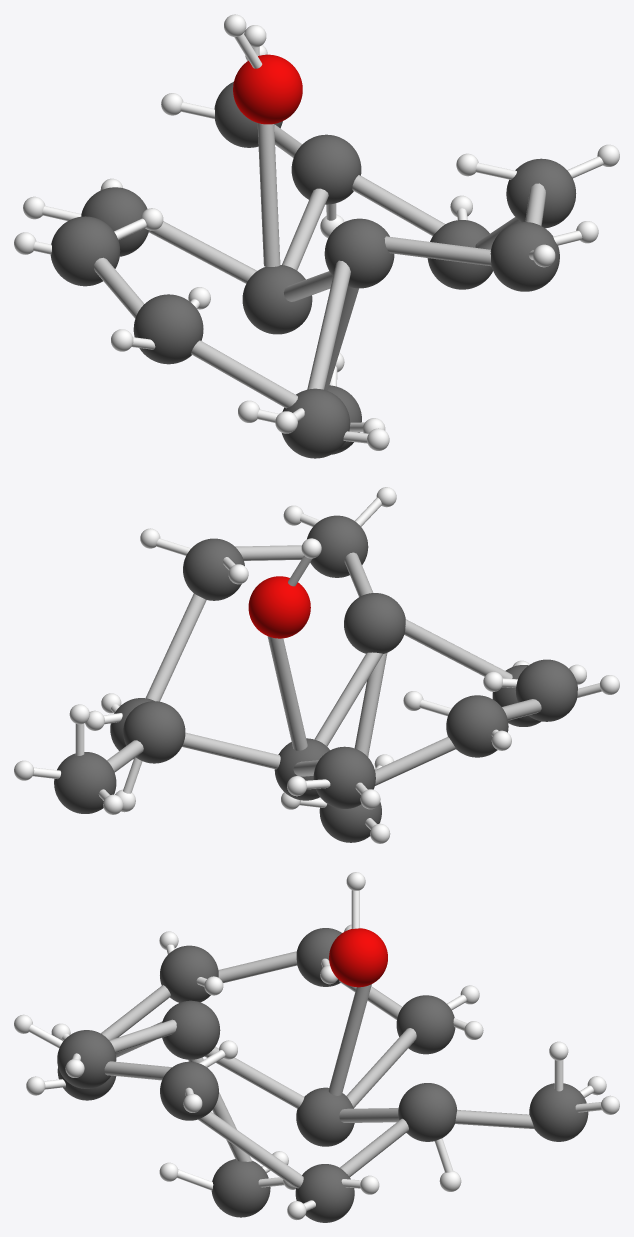
Rendered from Geosmin.glb.
3 renders of one model, top to bottom at view 1: azimuth 30°, elevation 25°; view 2: azimuth 150°, elevation 25°; view 3: azimuth 270°, elevation 25°, orthographic. The views are drawn at different scales.
Visible parts, largest first — view 1: Sphere 12, Sphere, Sphere 9, Sphere 2, Sphere 1, Sphere 3, Sphere 6, Sphere 5, Sphere 7, Sphere 8, Cylinder 11, Sphere 4 (+12 smaller); view 2: Sphere 1, Sphere 12, Sphere 9, Sphere 11, Sphere 2, Sphere, Sphere 4, Sphere 7, Sphere 6, Cylinder 11, Cylinder 7, Sphere 20 (+12 smaller); view 3: Sphere 12, Sphere 9, Sphere 20, Sphere 11, Sphere 1, Sphere 4, Sphere 8, Sphere 3, Sphere 7, Sphere, Sphere 6, Cylinder 7 (+14 smaller).
Boxes of the visible parts, <box> form: Sphere 12: <box>233,54,302,124</box>; Sphere: <box>133,294,203,364</box>; Sphere 9: <box>291,134,361,204</box>; Sphere 2: <box>50,216,120,286</box>; Sphere 1: <box>324,218,394,288</box>; Sphere 3: <box>242,265,312,334</box>; Sphere 6: <box>490,222,559,291</box>; Sphere 5: <box>282,388,350,458</box>; Sphere 7: <box>506,158,576,228</box>; Sphere 8: <box>427,220,492,289</box>; Cylinder 11: <box>257,123,280,266</box>; Sphere 4: <box>81,187,148,256</box>; Sphere 1: <box>344,593,405,653</box>; Sphere 12: <box>248,576,310,638</box>; Sphere 9: <box>123,701,185,763</box>; Sphere 11: <box>54,752,116,813</box>; Sphere 2: <box>446,695,508,757</box>; Sphere: <box>515,659,577,721</box>; Sphere 4: <box>313,746,375,808</box>; Sphere 7: <box>183,538,244,600</box>; Sphere 6: <box>307,515,368,577</box>; Cylinder 11: <box>267,636,307,750</box>; Cylinder 7: <box>145,593,206,701</box>; Sphere 20: <box>319,802,381,842</box>; Sphere 12: <box>329,928,387,987</box>; Sphere 9: <box>398,1083,457,1141</box>; Sphere 20: <box>211,1159,270,1217</box>; Sphere 11: <box>529,1083,588,1141</box>; Sphere 1: <box>162,1000,220,1059</box>; Sphere 4: <box>396,995,455,1054</box>; Sphere 8: <box>295,1164,354,1222</box>; Sphere 3: <box>296,1087,354,1146</box>; Sphere 7: <box>160,1061,218,1120</box>; Sphere: <box>160,945,218,1002</box>; Sphere 6: <box>57,1030,116,1088</box>; Cylinder 7: <box>198,1112,303,1188</box>.
Bounding box in the file's own units: 1.5 × 1.08 × 1.79.
